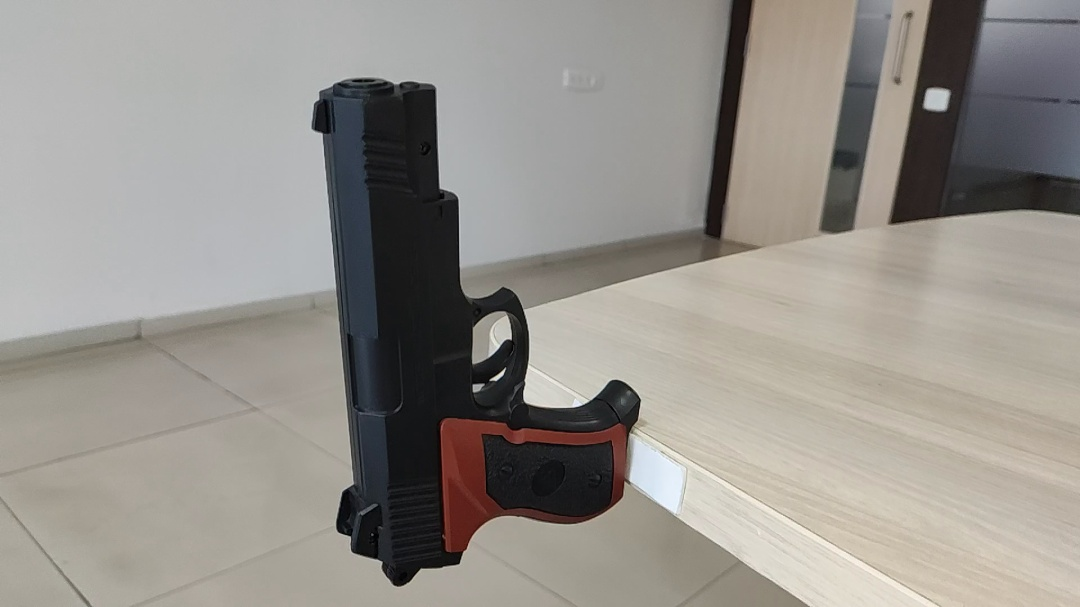gun: (311, 78, 641, 587)
